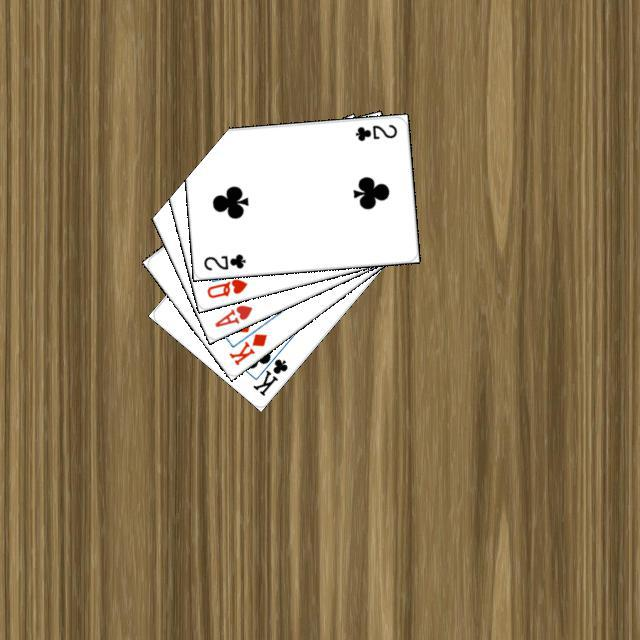2c: (350, 120, 399, 143), (199, 249, 247, 272)
Ah: (210, 300, 254, 329)
Kc: (248, 345, 290, 398)
Kd: (224, 328, 269, 367)
Qh: (202, 274, 249, 300)
